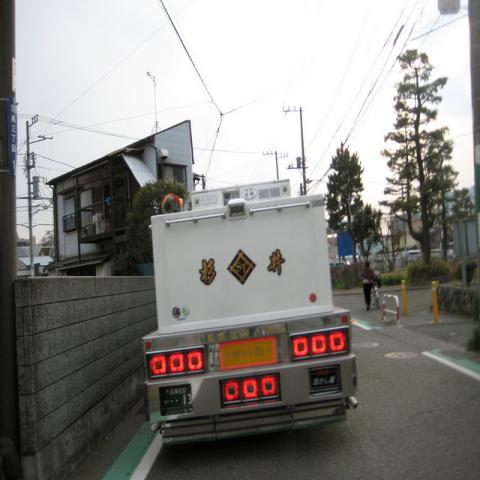truck: (145, 178, 358, 447)
